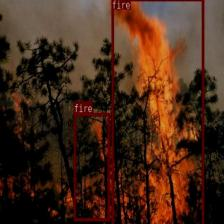fire: (111, 0, 203, 224), (73, 112, 110, 220)
